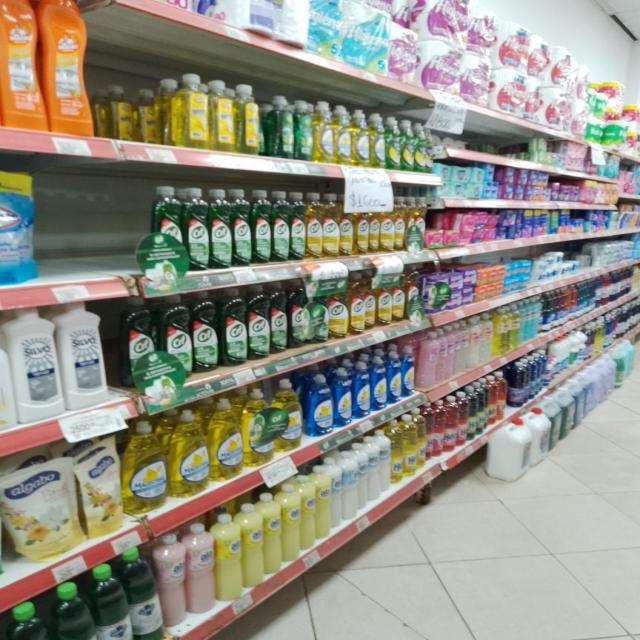cif_conc_bot_amarilla: (328, 277, 348, 340), (306, 192, 322, 260), (323, 192, 338, 258), (406, 198, 423, 252), (339, 196, 354, 256), (350, 272, 364, 336), (376, 272, 392, 327), (355, 197, 368, 255), (380, 199, 393, 253), (365, 272, 376, 330), (393, 273, 405, 324), (368, 199, 379, 254), (394, 198, 405, 252)
cif_conc_botella_verde: (121, 296, 158, 396), (150, 185, 183, 274), (160, 294, 190, 384), (220, 286, 247, 366), (192, 290, 218, 373), (185, 187, 208, 271), (210, 188, 231, 269), (248, 284, 269, 360), (233, 188, 251, 268), (252, 190, 271, 264), (290, 279, 309, 348), (272, 190, 290, 262), (270, 282, 288, 354), (290, 191, 306, 261), (310, 280, 327, 344)
heroe: (171, 73, 210, 148), (209, 78, 237, 152), (263, 94, 294, 159), (236, 83, 262, 154), (294, 98, 314, 161)
magistral_con_amarillo: (314, 100, 333, 163), (334, 105, 352, 166), (352, 108, 369, 168), (370, 112, 386, 169)
